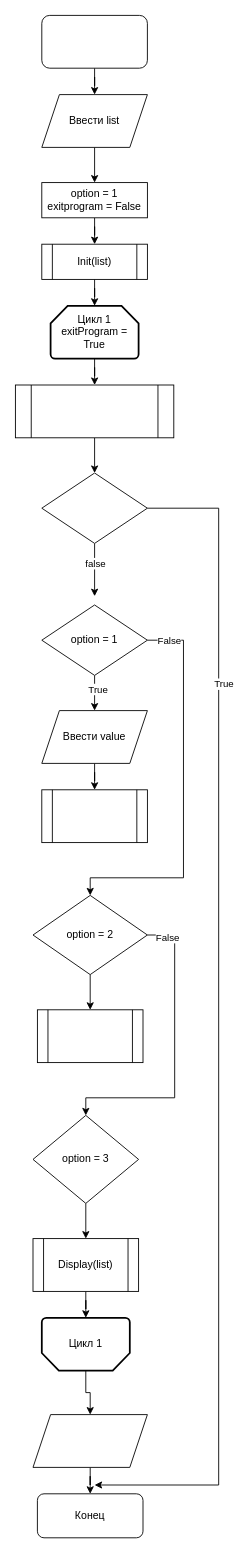
Image size: 248x1553. Some labels were removed from this diagram. Here are the shapes that lost their labels. From the top down, the box of each, then its label:
(41, 15, 147, 68): Начало
(15, 384, 174, 438): DisplayMenu (option,exitprogram)
(41, 472, 147, 543): exitprogram
(41, 789, 147, 843): Insert(list,value)
(37, 1009, 143, 1063): Delete(list)
(32, 1414, 147, 1467): Вывести (Выход)
